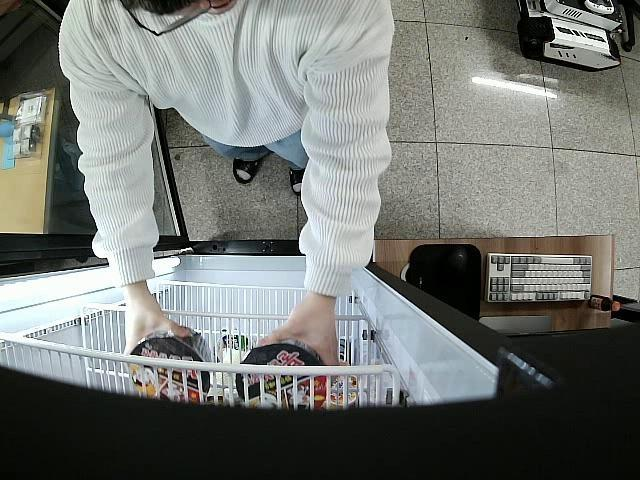07_buldak_L: (127, 327, 210, 404), (236, 342, 327, 410)
